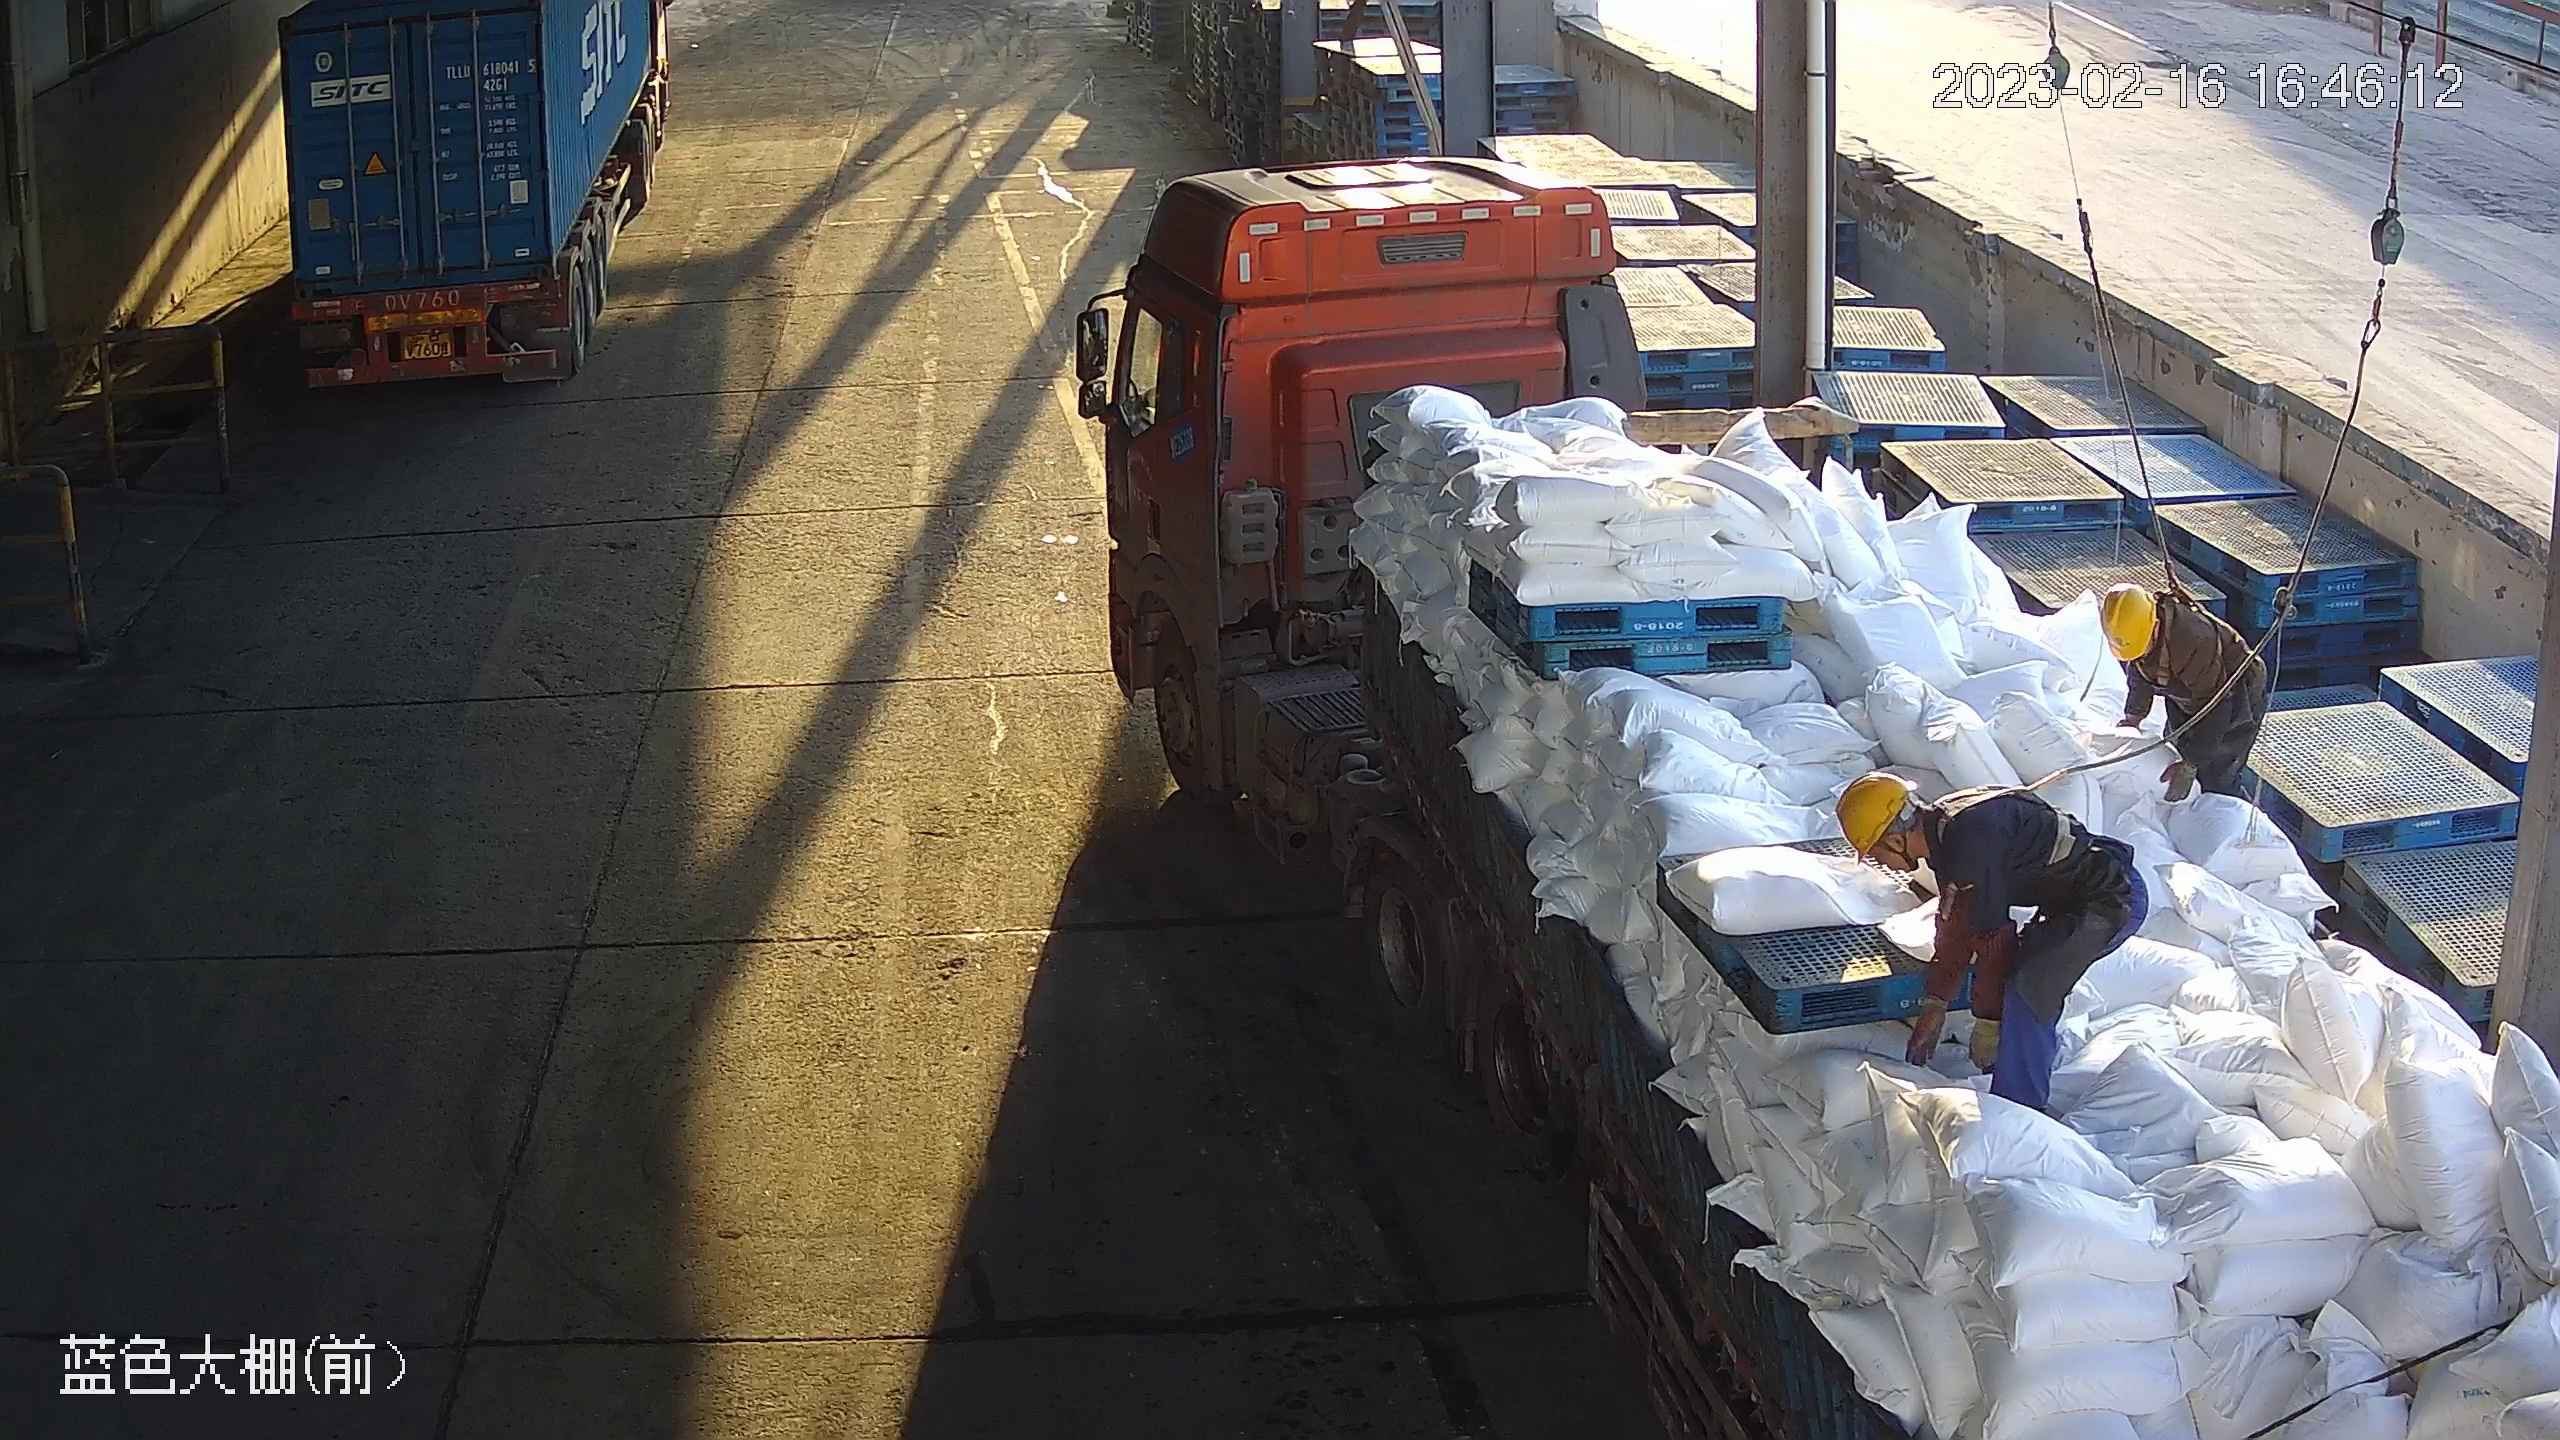belt: (1934, 773, 2083, 854), (2122, 656, 2203, 721)
head: (1836, 773, 2026, 920), (2102, 578, 2212, 704)
helmet: (1841, 777, 1919, 868), (2095, 583, 2162, 659)
people: (1838, 771, 2150, 1121), (2098, 580, 2267, 804)
truck: (1072, 161, 2560, 1440), (274, 1, 679, 402)
